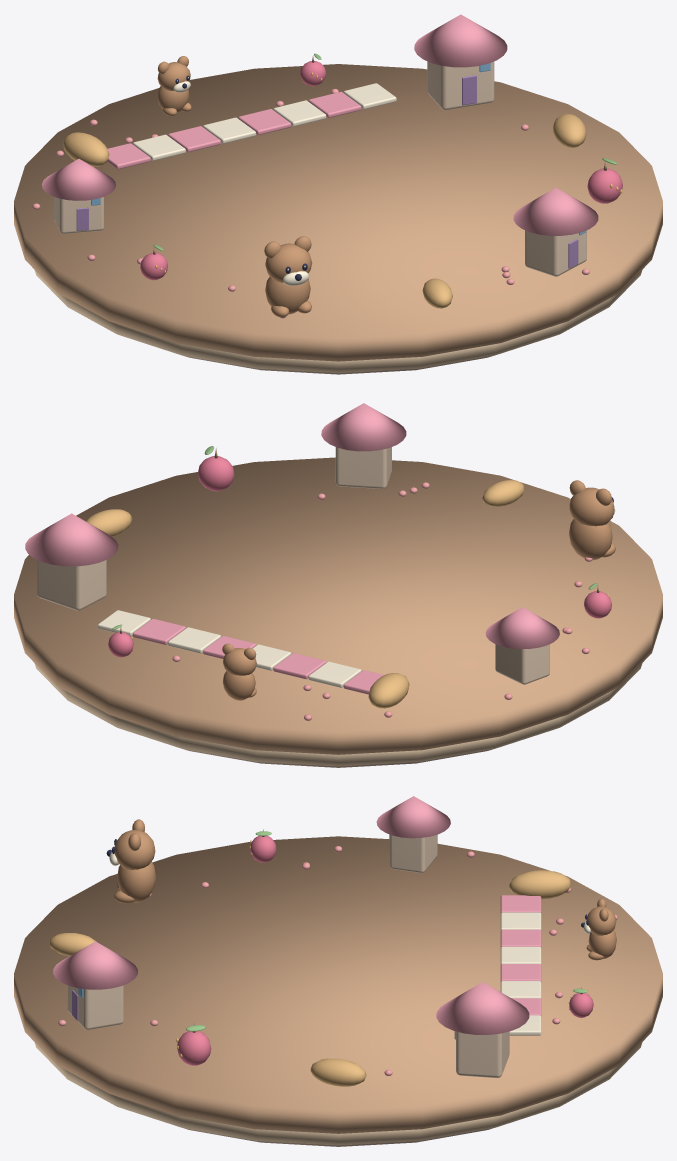
Rendered from world.glb.
3 views of the same model, one above another, from view 1: azimuth 30°, elevation 25°; view 2: azimuth 150°, elevation 25°; view 3: azimuth 270°, elevation 25° (orthographic).
Parts seen in each view (by area): view 1: Cone, Cone.001, house.001, house.003, house.002, bear.002, bear.001, bread.002, strawberry.003, bread.001, Cube.003, Cube.006 (+10 smaller); view 2: Cone, Cone.001, house.001, house.003, house.002, bear.002, bear.001, bread.002, strawberry.003, bread.003, bread.001, Cube.002 (+10 smaller); view 3: Cone, Cone.001, house.001, house.003, house.002, bear.002, bear.001, bread.002, bread.001, strawberry.003, Cube.001, Cube.003 (+8 smaller).
Part boxes in pixels (x1=…): Cone: x1=14, y1=64, x2=662, y2=361; Cone.001: x1=34, y1=270, x2=642, y2=373; house.001: x1=414, y1=14, x2=507, y2=110; house.003: x1=513, y1=187, x2=598, y2=276; house.002: x1=42, y1=159, x2=115, y2=233; bear.002: x1=264, y1=236, x2=312, y2=317; bear.001: x1=157, y1=56, x2=191, y2=116; bread.002: x1=63, y1=132, x2=109, y2=166; strawberry.003: x1=587, y1=158, x2=622, y2=203; bread.001: x1=553, y1=113, x2=586, y2=147; Cube.003: x1=203, y1=117, x2=256, y2=143; Cube.006: x1=308, y1=91, x2=361, y2=117; Cone: x1=14, y1=457, x2=662, y2=754; Cone.001: x1=34, y1=663, x2=642, y2=766; house.001: x1=25, y1=513, x2=118, y2=610; house.003: x1=321, y1=403, x2=406, y2=488; house.002: x1=485, y1=607, x2=559, y2=684; bear.002: x1=569, y1=480, x2=615, y2=560; bear.001: x1=222, y1=643, x2=256, y2=700; bread.002: x1=368, y1=673, x2=409, y2=708; strawberry.003: x1=198, y1=446, x2=234, y2=491; bread.003: x1=482, y1=480, x2=524, y2=506; bread.001: x1=86, y1=509, x2=132, y2=536; Cube.002: x1=273, y1=653, x2=326, y2=679; Cone: x1=14, y1=836, x2=662, y2=1133; Cone.001: x1=34, y1=1042, x2=642, y2=1145; house.001: x1=436, y1=982, x2=529, y2=1077; house.003: x1=53, y1=941, x2=137, y2=1029; house.002: x1=376, y1=796, x2=450, y2=873; bear.002: x1=106, y1=819, x2=155, y2=903; bear.001: x1=581, y1=898, x2=616, y2=960; bread.002: x1=509, y1=870, x2=571, y2=899; bread.001: x1=310, y1=1058, x2=366, y2=1086; strawberry.003: x1=176, y1=1022, x2=211, y2=1065; Cube.001: x1=500, y1=912, x2=541, y2=930; Cube.003: x1=500, y1=946, x2=541, y2=964.
Size of the model in its own units: 9.6 by 2.18 by 9.6.
